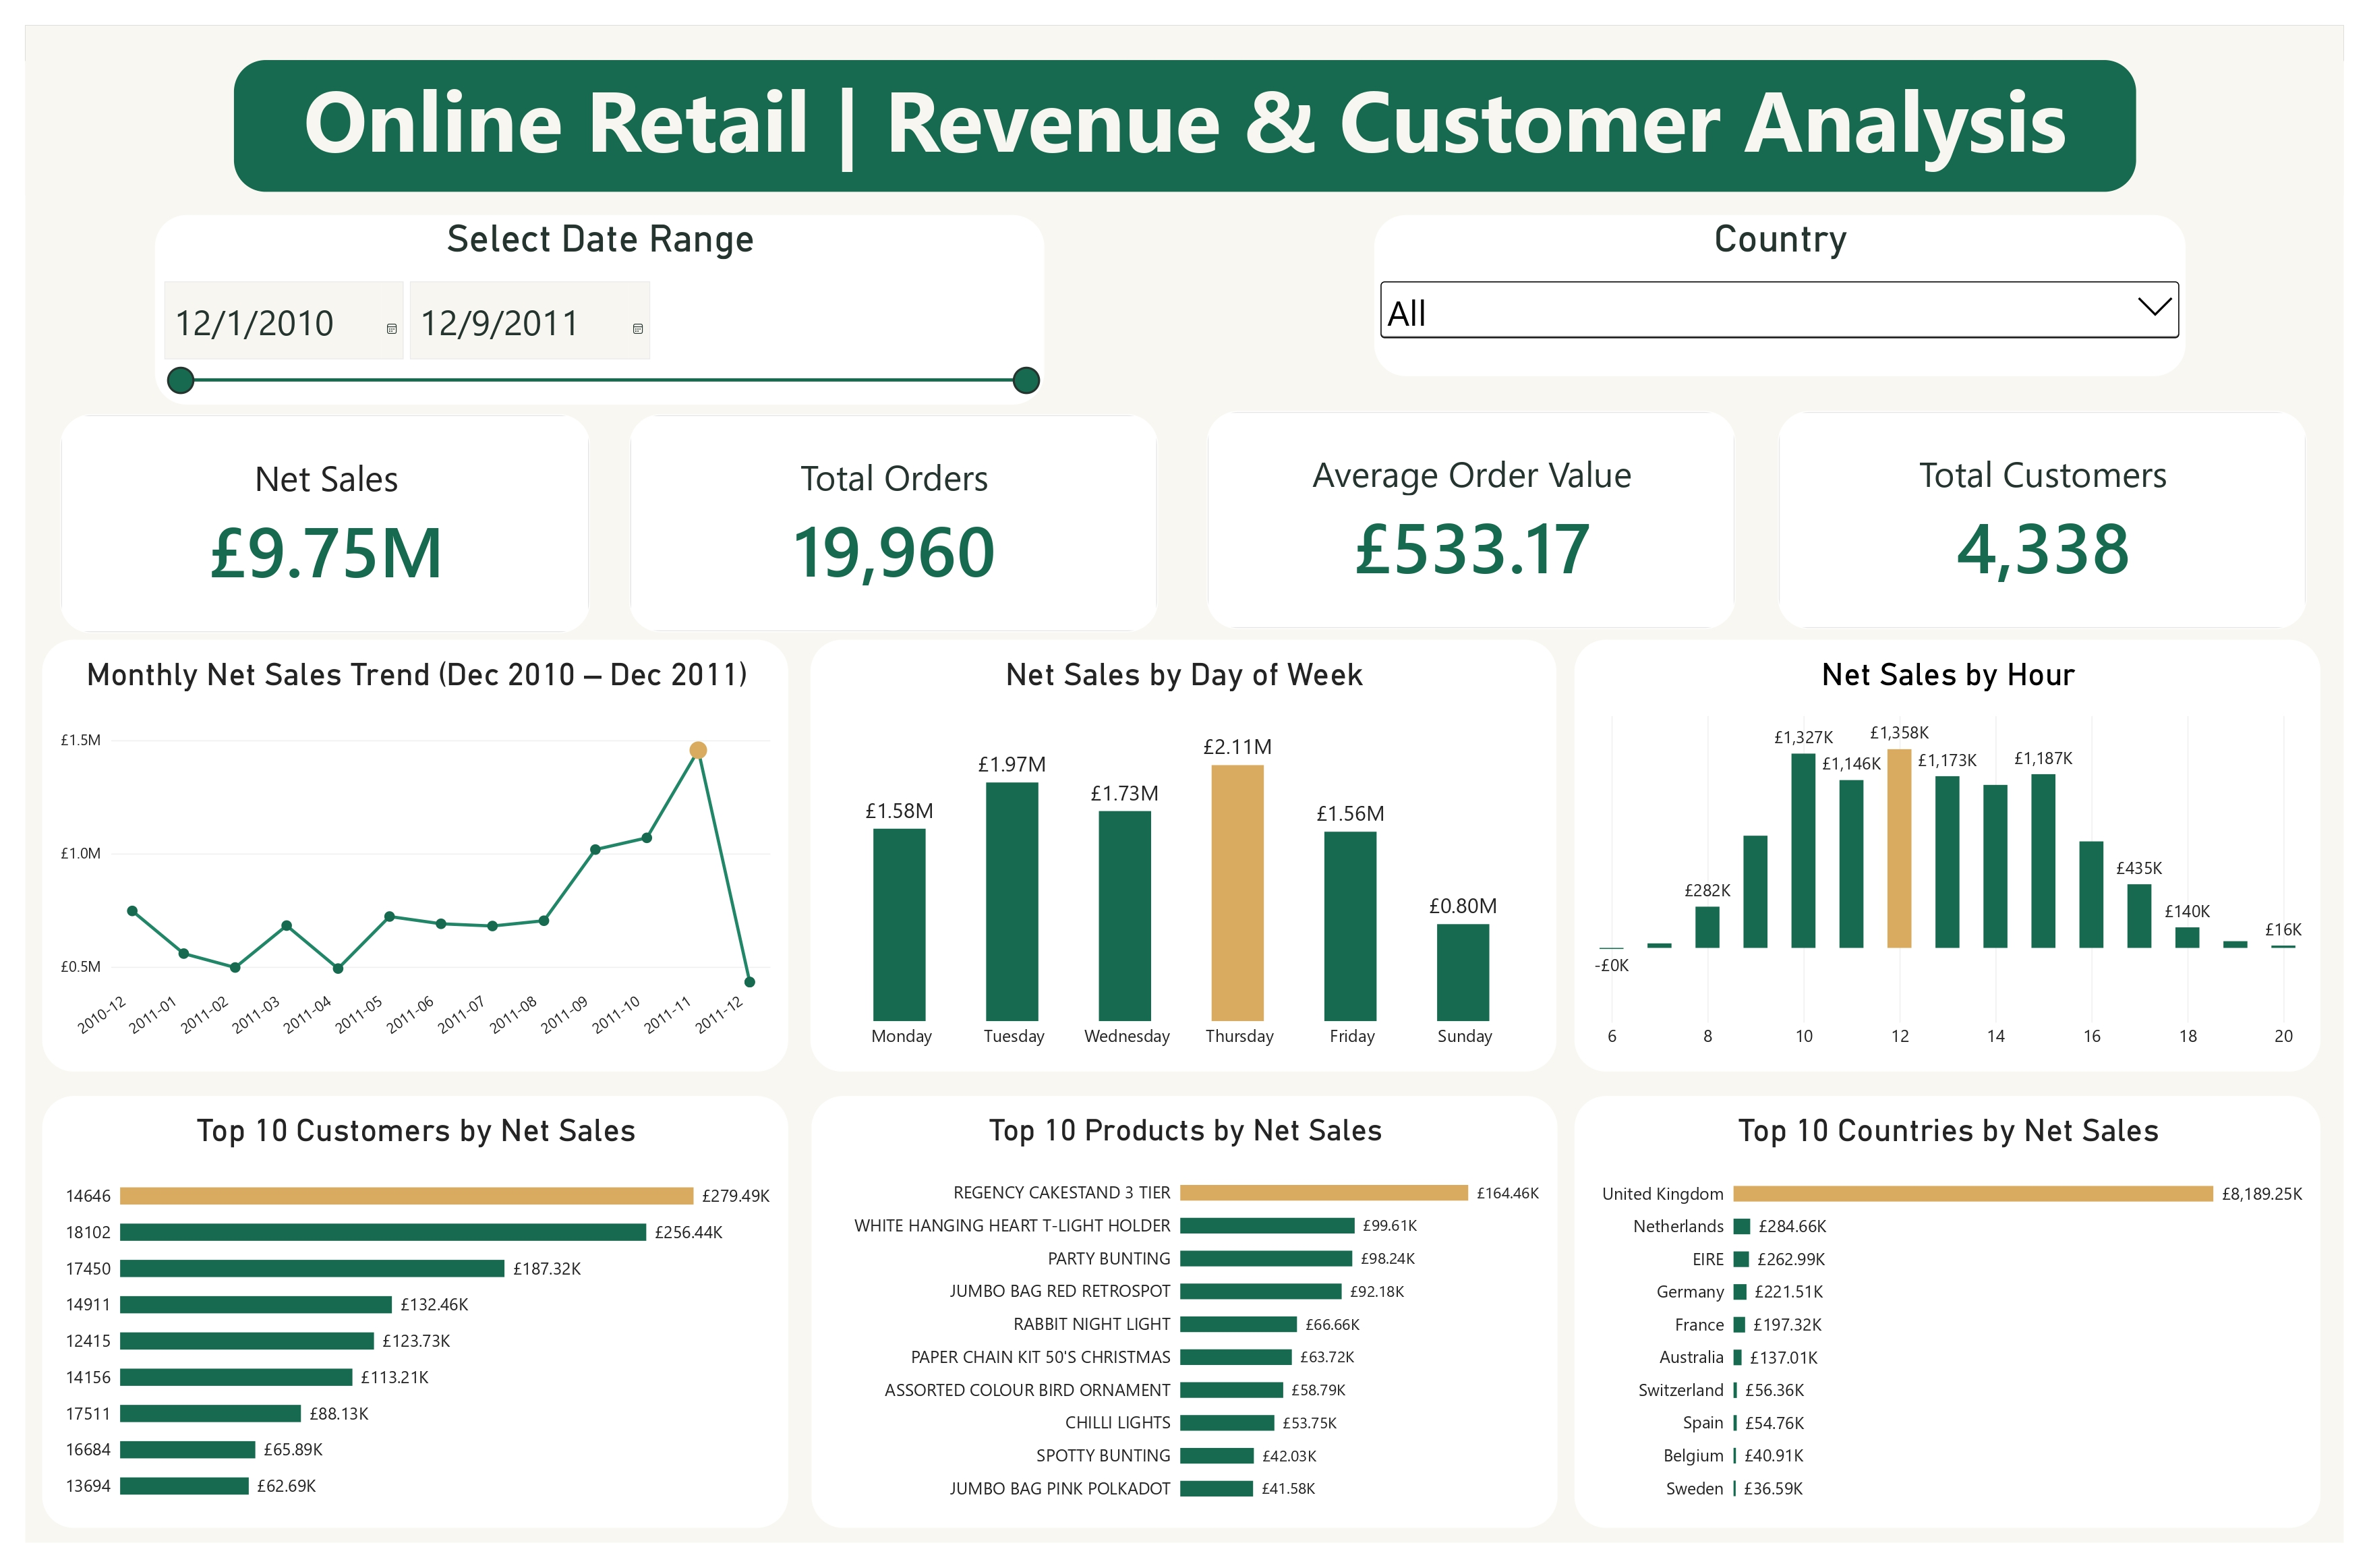

The page's visual inventory and layout, read from the dashboard file:
{"tool":"powerbi","page":{"name":"Page 1","canvas":[2200,1440],"ordinal":0},"visuals":[{"type":"cardVisual","fields":{"Data":["online_retail_db vw_sales_analysis.Net Sales"]},"box":[32.9,369.1,502.5,207.5],"z":0,"group":"g1"},{"type":"lineChart","title":"Monthly Net Sales Trend (Dec 2010 – Dec 2011)","fields":{"Category":["online_retail_db vw_sales_analysis.YearMonth"],"Y":["online_retail_db vw_sales_analysis.Net Sales"]},"box":[15.7,582.9,708.3,410],"z":0},{"type":"cardVisual","fields":{"Data":["online_retail_db vw_sales_analysis.Total Orders Display"]},"box":[573.4,368.2,502,207],"z":1000,"group":"g1"},{"type":"clusteredBarChart","title":"Top 10 Countries by Net Sales","fields":{"Category":["online_retail_db vw_sales_analysis.Country"],"Y":["online_retail_db vw_sales_analysis.Net Sales"]},"box":[1470,1016,708,410],"z":1000},{"type":"cardVisual","fields":{"Data":["online_retail_db vw_sales_analysis.Average Order Value"]},"box":[1120.9,365.7,502,207],"z":2000,"group":"g1"},{"type":"clusteredBarChart","title":"Top 10 Products by Net Sales","fields":{"Category":["online_retail_db vw_sales_analysis.Description"],"Y":["online_retail_db vw_sales_analysis.Product Net Sales"]},"box":[746,1016,708,410],"z":2000},{"type":"cardVisual","fields":{"Data":["online_retail_db vw_sales_analysis.Total Customers Display"]},"box":[1663.4,365.7,502,207],"z":3000,"group":"g1"},{"type":"clusteredBarChart","title":"Top 10 Customers by Net Sales","fields":{"Category":["online_retail_db vw_sales_analysis.CustomerID"],"Y":["online_retail_db vw_sales_analysis.Customer Net Sales"]},"box":[16,1016,708,410],"z":3000},{"type":"clusteredColumnChart","title":"Net Sales by Day of Week","fields":{"Category":["online_retail_db vw_sales_analysis.DayOfWeek"],"Y":["online_retail_db vw_sales_analysis.Net Sales"]},"box":[745,582.5,708,410],"z":4000},{"type":"clusteredColumnChart","title":"Net Sales by Hour","fields":{"Category":["online_retail_db vw_sales_analysis.Hour"],"Y":["online_retail_db vw_sales_analysis.Net Sales"]},"box":[1470,583.3,708.3,410],"z":5000},{"type":"slicer","title":"Select Date Range","fields":{"Values":["online_retail_db vw_sales_analysis.InvoiceDate"]},"box":[123.3,180,843.3,180],"z":6000},{"type":"slicer","title":"Country","fields":{"Values":["online_retail_db vw_sales_analysis.Country"]},"box":[1280,180,770,153.3],"z":7000},{"type":"textbox","box":[197.5,32.5,1805,125],"z":8000},{"type":"group","id":"g1","title":"Group 1","box":[32.9,365.7,2132.9,210],"z":9000}]}

Visuals, with their boxes on the page's 2200x1440 design canvas (x1, y1, x2, y2). These are canvas units, not pixel positions in the 2369x1568 screenshot, which may show the page scaled, cropped or inside an application window:
cardVisual - online_retail_db vw_sales_analysis.Net Sales: x1=33 y1=369 x2=535 y2=577
"Monthly Net Sales Trend (Dec 2010 – Dec 2011)" lineChart: x1=16 y1=583 x2=724 y2=993
cardVisual - online_retail_db vw_sales_analysis.Total Orders Display: x1=573 y1=368 x2=1075 y2=575
"Top 10 Countries by Net Sales" clusteredBarChart: x1=1470 y1=1016 x2=2178 y2=1426
cardVisual - online_retail_db vw_sales_analysis.Average Order Value: x1=1121 y1=366 x2=1623 y2=573
"Top 10 Products by Net Sales" clusteredBarChart: x1=746 y1=1016 x2=1454 y2=1426
cardVisual - online_retail_db vw_sales_analysis.Total Customers Display: x1=1663 y1=366 x2=2165 y2=573
"Top 10 Customers by Net Sales" clusteredBarChart: x1=16 y1=1016 x2=724 y2=1426
"Net Sales by Day of Week" clusteredColumnChart: x1=745 y1=582 x2=1453 y2=992
"Net Sales by Hour" clusteredColumnChart: x1=1470 y1=583 x2=2178 y2=993
"Select Date Range" slicer: x1=123 y1=180 x2=967 y2=360
"Country" slicer: x1=1280 y1=180 x2=2050 y2=333
textbox: x1=198 y1=32 x2=2002 y2=158
"Group 1" group: x1=33 y1=366 x2=2166 y2=576
